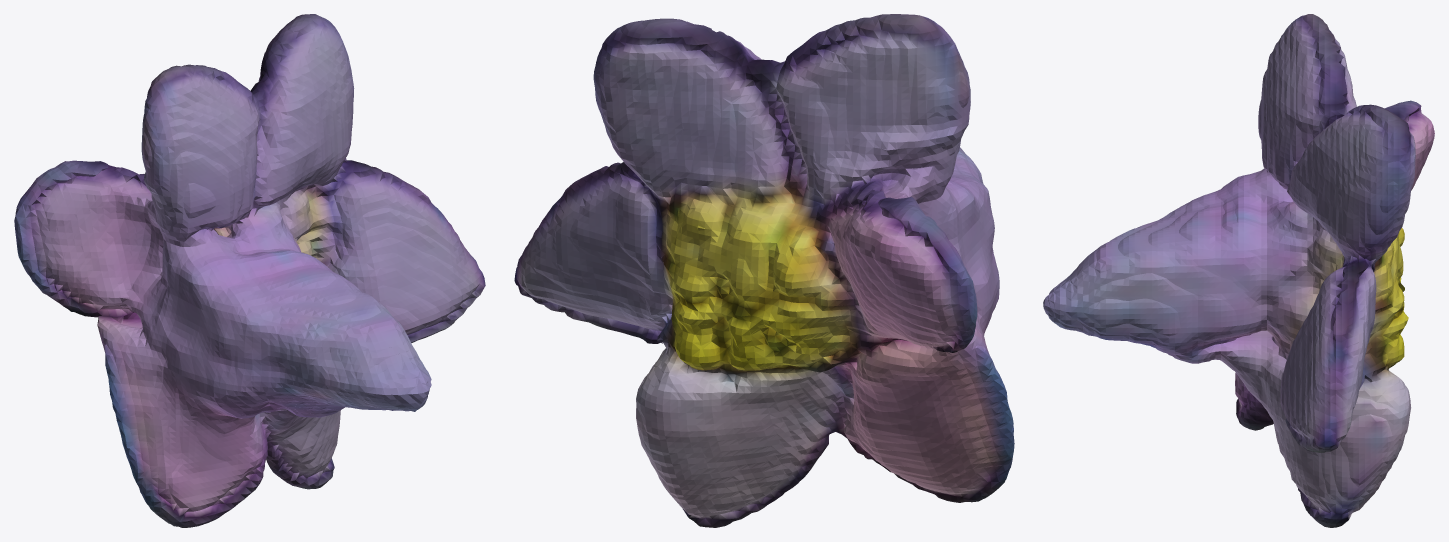
The picture shows the model from 3 angles, left to right: view 1: azimuth 30°, elevation 25°; view 2: azimuth 150°, elevation 25°; view 3: azimuth 270°, elevation 25°; orthographic projection. The views are drawn at different scales.
Visible parts, largest first — view 1: world; view 2: world; view 3: world.
Part boxes in pixels (x1,y1,x2,y2): world: (14, 14, 485, 527); world: (514, 14, 1014, 527); world: (1043, 14, 1434, 527).
Bounding box in the file's own units: 0.554 × 0.5711 × 0.4645.
